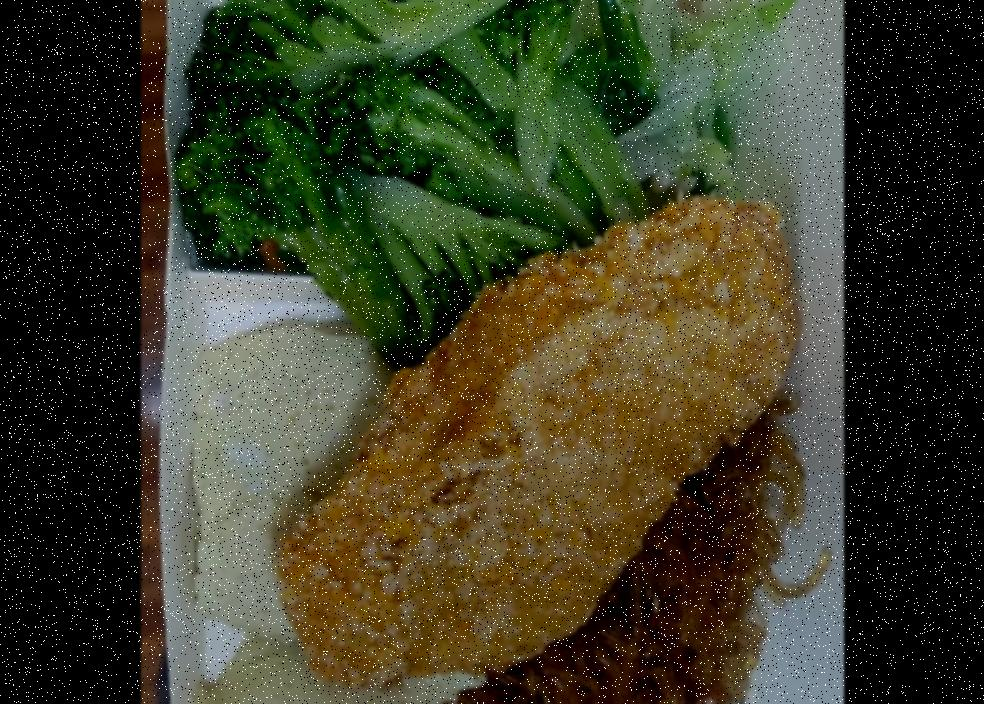big grilled chicken leg: (155, 0, 795, 704)
braised fish fillet: (172, 0, 603, 352), (179, 318, 476, 704), (458, 407, 788, 704), (602, 0, 806, 210)
braised pork: (279, 190, 792, 695)
